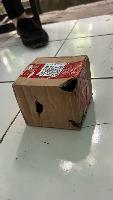damaged package: (55, 73, 83, 95), (67, 111, 86, 129), (31, 99, 46, 118)
undamaged: (9, 50, 95, 133)
